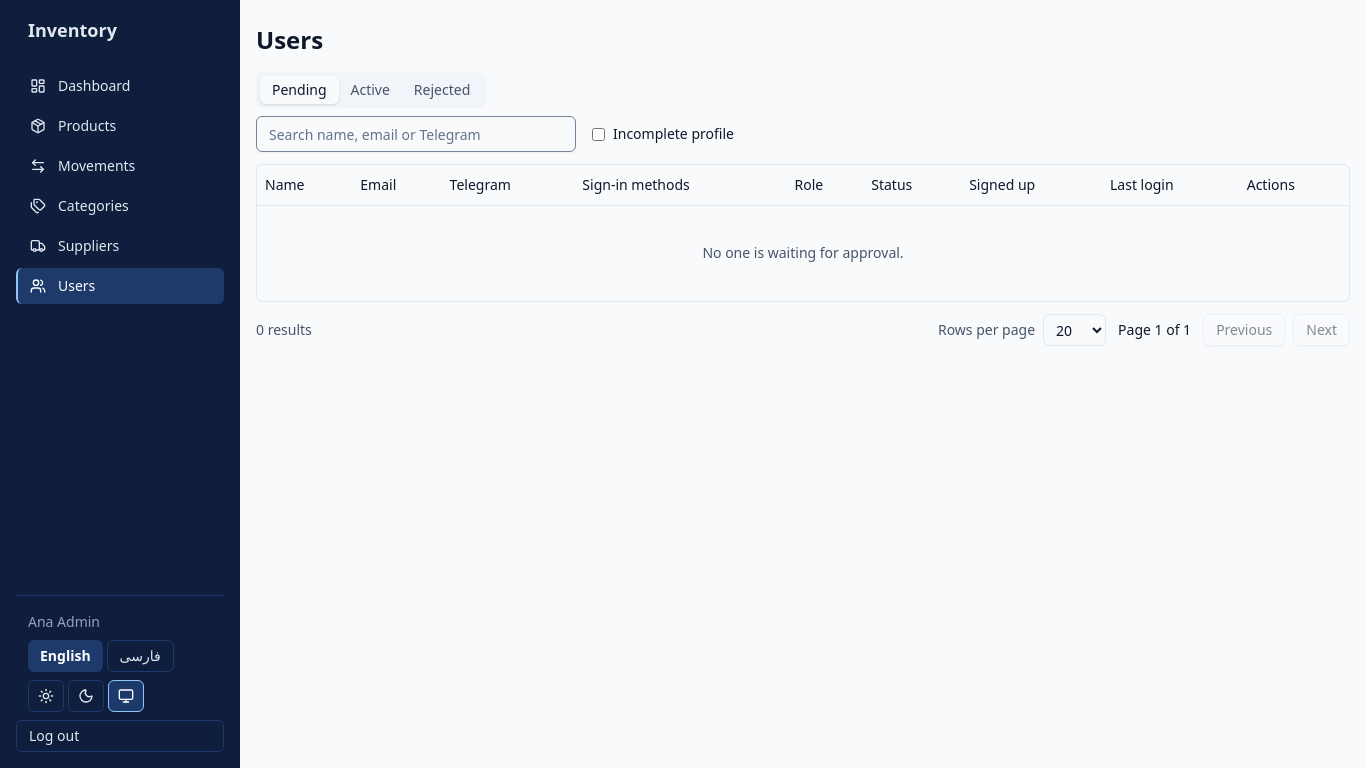
UsersPage tabs and table › says so when a tab is empty or the search finds no one
This screenshot has width=1366, height=768.
Expected: the text "No one is waiting for approval." is shown, top-left (257, 205), bottom-right (1349, 301)
Click the tab "Active" at (370, 90), box top-left (338, 76), bottom-right (402, 104)
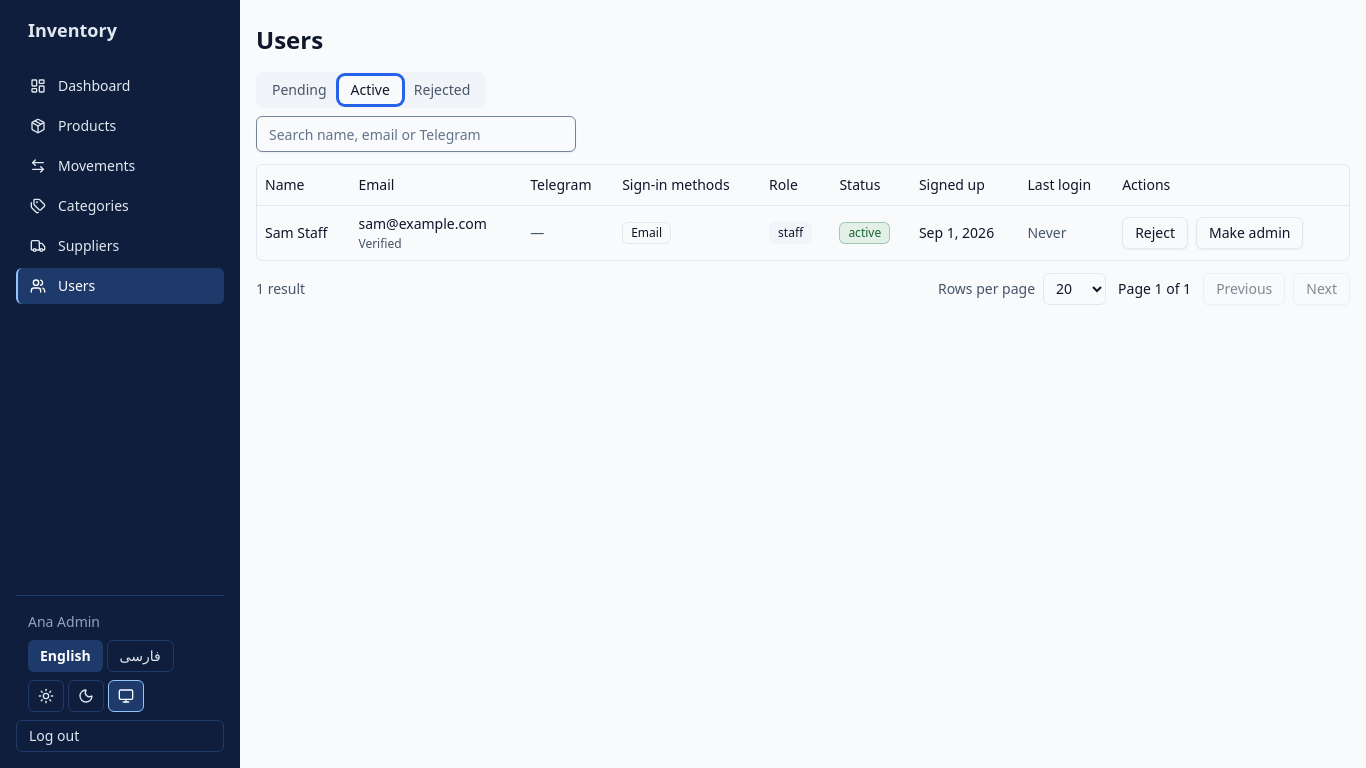
Type "zzz" into the search field named "Search users" at (416, 134), box top-left (256, 116), bottom-right (576, 152)
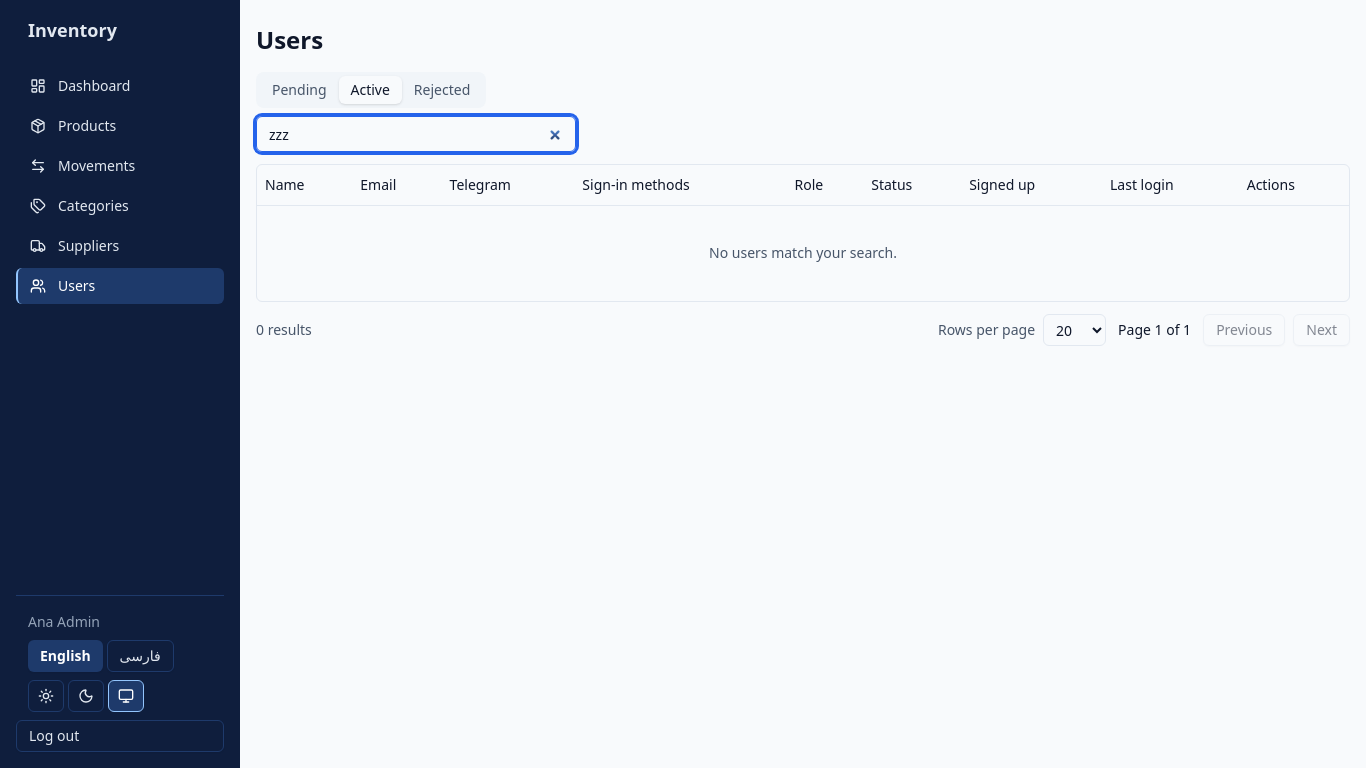
Result: the text "No users match your search." is shown at top-left (257, 205), bottom-right (1349, 301)
